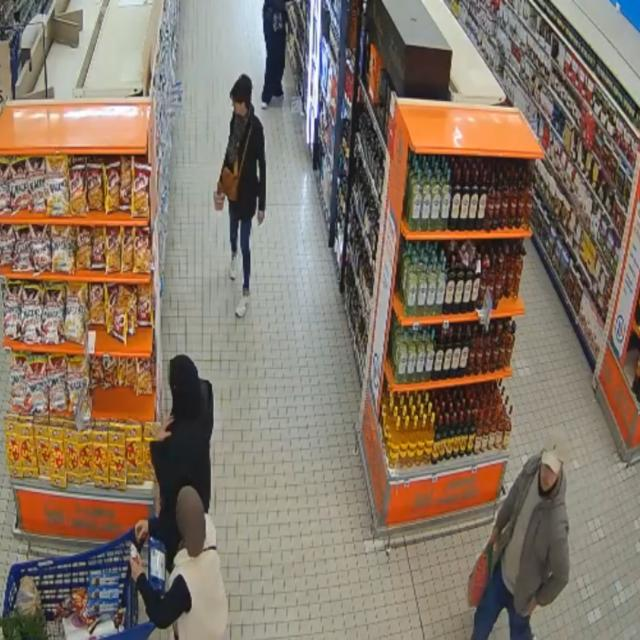article: (213, 191, 224, 210)
bags: (220, 126, 251, 202), (468, 541, 493, 607)
hands: (156, 415, 173, 441), (130, 558, 143, 581), (135, 520, 148, 542), (527, 598, 537, 617), (490, 526, 499, 543), (258, 211, 265, 225)
